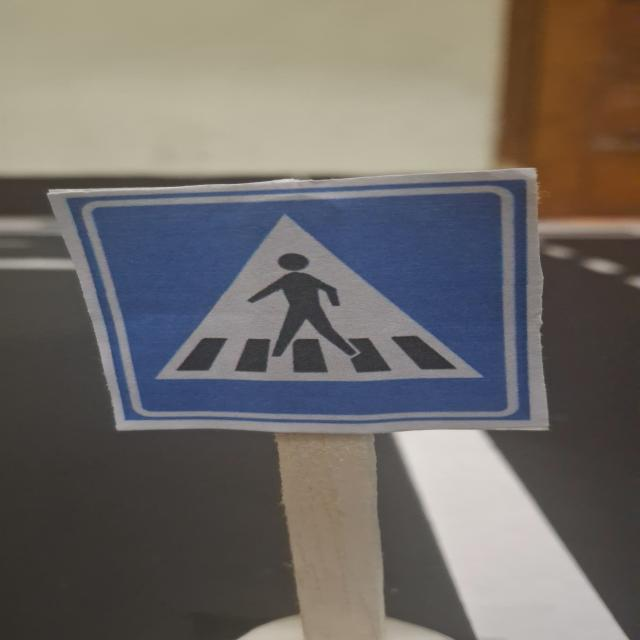Rambu Penyebrangan: (70, 190, 539, 427)
